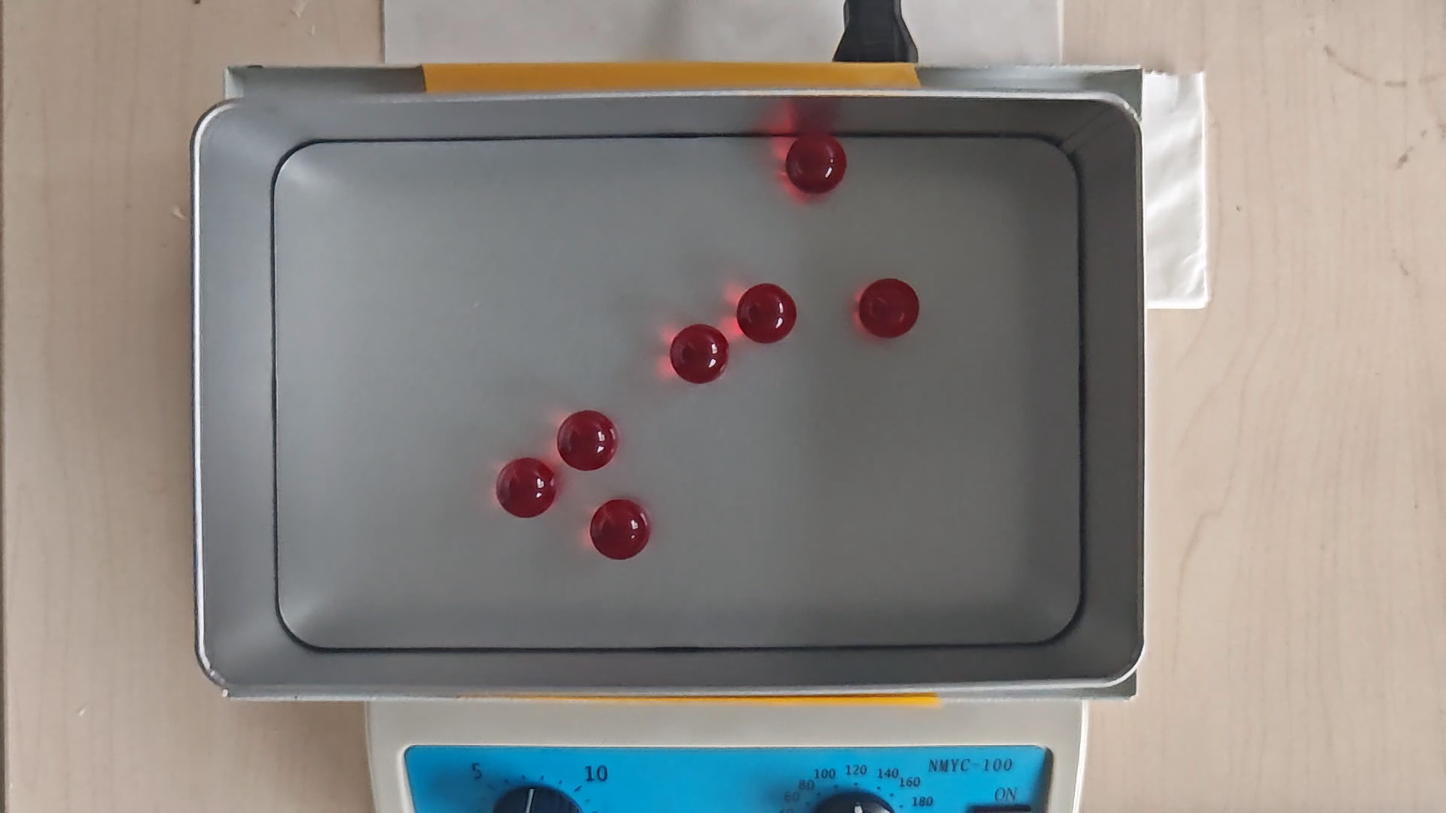ball: (558, 410, 619, 472), (591, 498, 651, 561), (860, 279, 921, 340), (496, 457, 556, 518), (788, 131, 847, 193), (735, 282, 794, 342), (670, 323, 727, 383)
container: (267, 133, 1080, 651)
